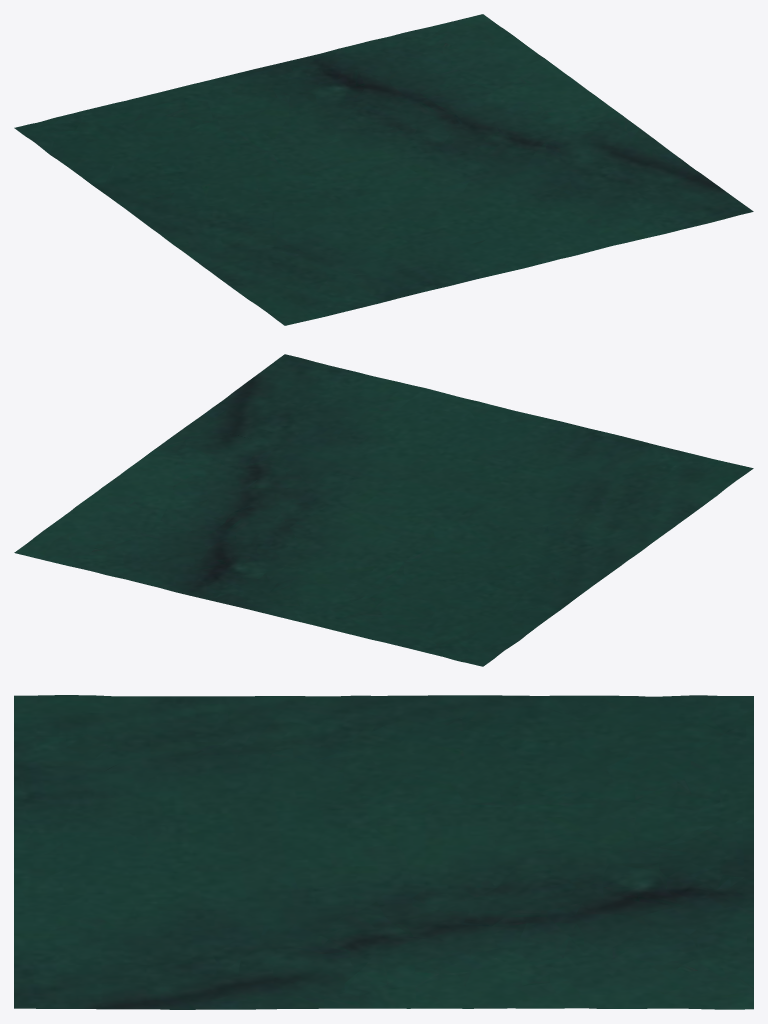
3 views of the same model, one above another, from view 1: azimuth 30°, elevation 25°; view 2: azimuth 150°, elevation 25°; view 3: azimuth 270°, elevation 25° (orthographic). The views are drawn at different scales.
Size of the model in its own units: 104 by 0.4307 by 104.
Materials: 3 (3 with a texture image).
